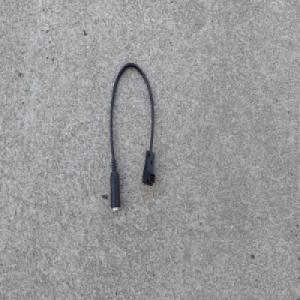Wire: (108, 61, 156, 213)
